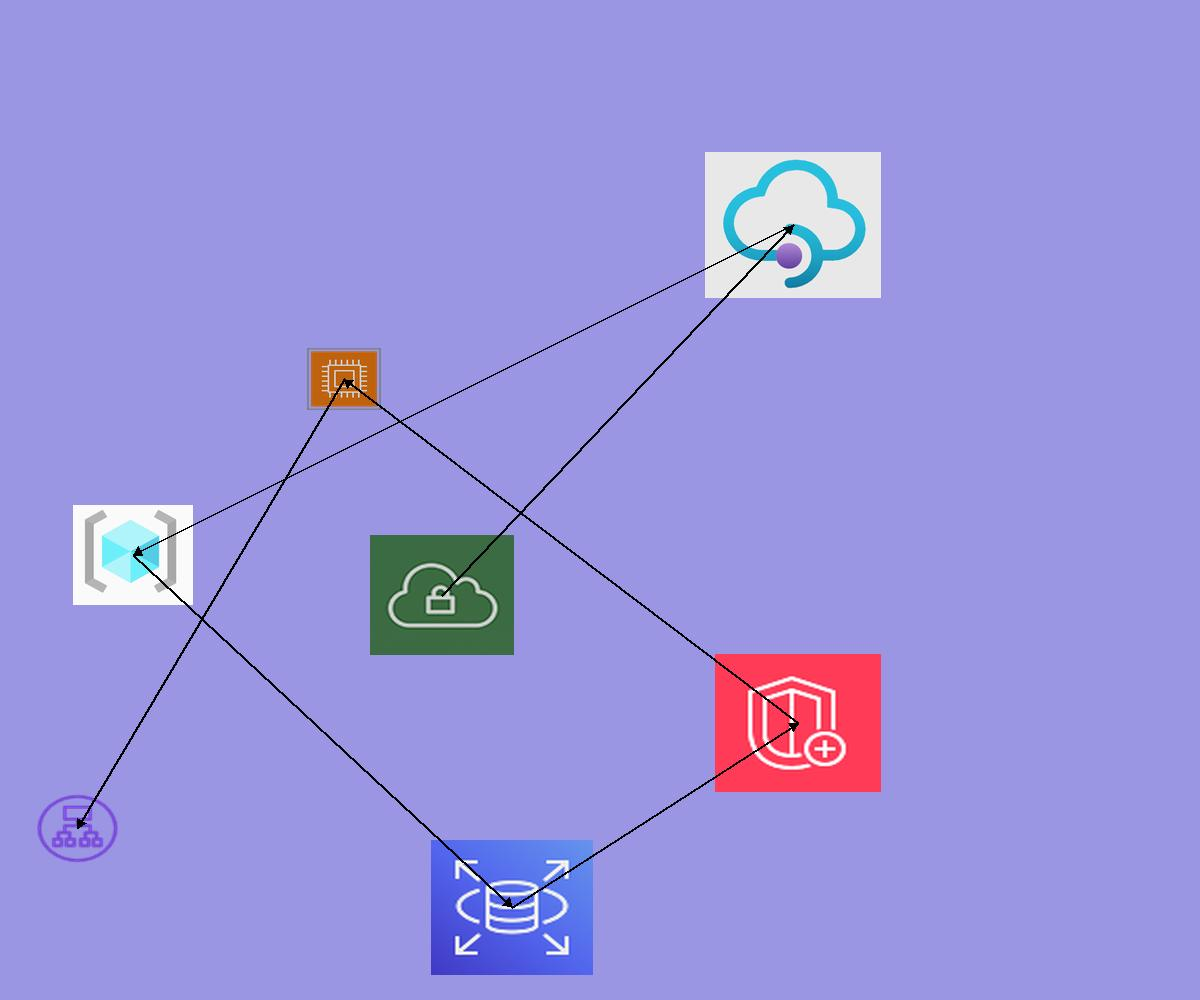AWS-Category_Compute: (307, 348, 381, 410)
AWS-Private_vpc: (370, 535, 514, 655)
AWS-RDS: (431, 840, 593, 975)
AWS-Res_Elastic-Load-Balancing_Application-Load-Balancer: (34, 792, 121, 865)
AWS-Shield: (715, 654, 881, 792)
Azure_api_gateway: (705, 152, 881, 298)
Azure_resource_group: (73, 505, 193, 605)
